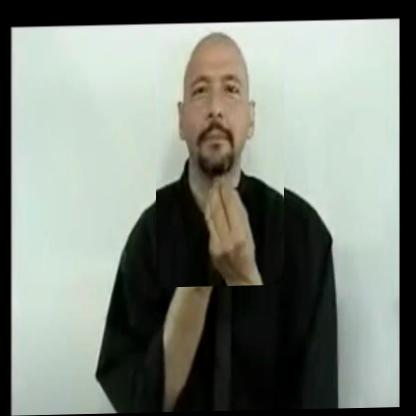Food: (156, 27, 284, 288)
